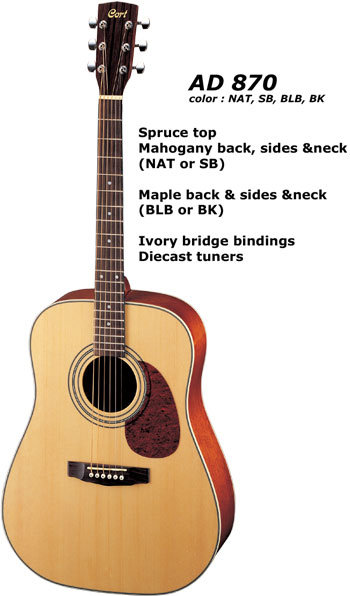guitar: (1, 1, 240, 596)
